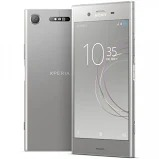sony: (67, 1, 136, 159), (22, 7, 72, 153)
